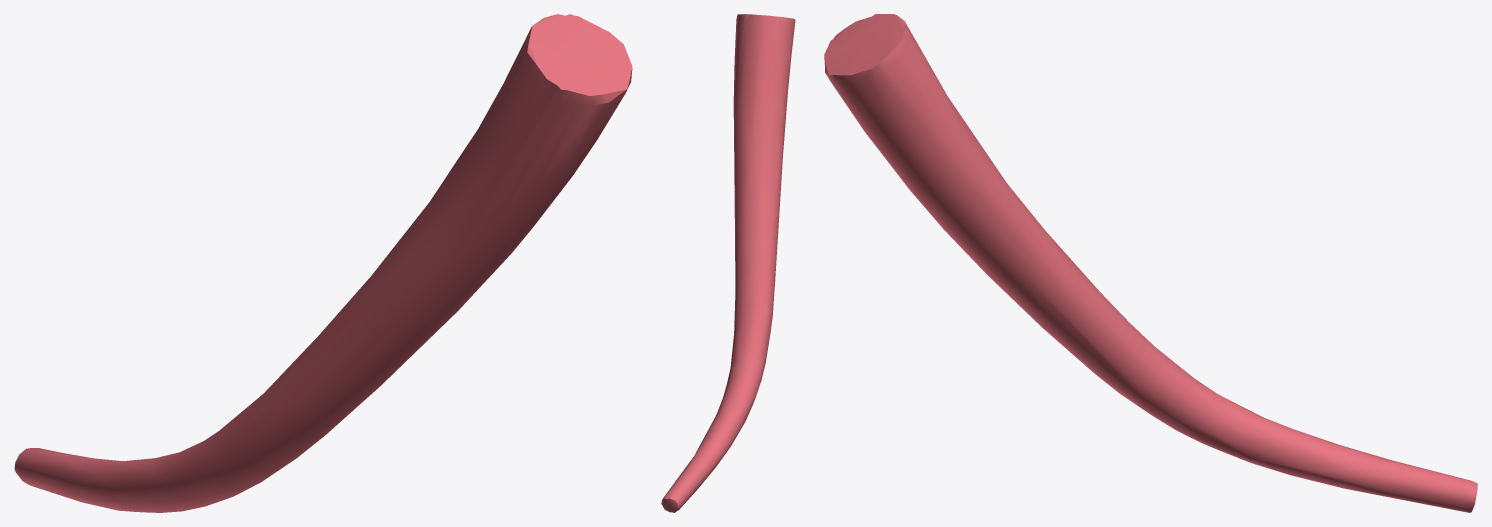
File: fma8647_fj2919.glb
3 renders of one model, left to right at view 1: azimuth 30°, elevation 25°; view 2: azimuth 150°, elevation 25°; view 3: azimuth 270°, elevation 25°, orthographic. The views are drawn at different scales.
Visible parts, largest first — view 1: FMA8647_FJ2919; view 2: FMA8647_FJ2919; view 3: FMA8647_FJ2919.
Part boxes in pixels (<box>): FMA8647_FJ2919: <box>14,14,632,512</box>; FMA8647_FJ2919: <box>661,14,795,512</box>; FMA8647_FJ2919: <box>824,14,1477,512</box>.
Bounding box in the file's own units: 0.0149 × 0.0385 × 0.0409.
